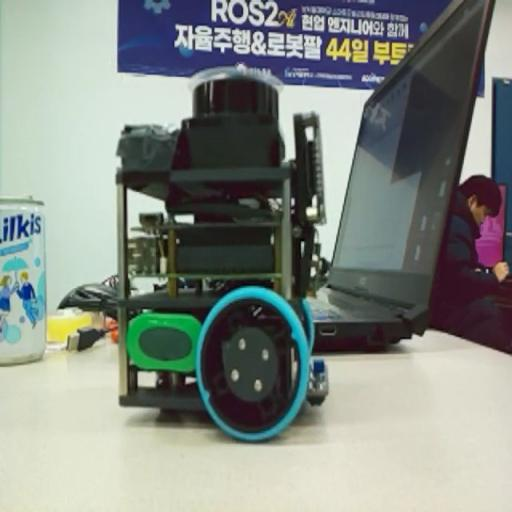pinky_63: (113, 62, 334, 446)
